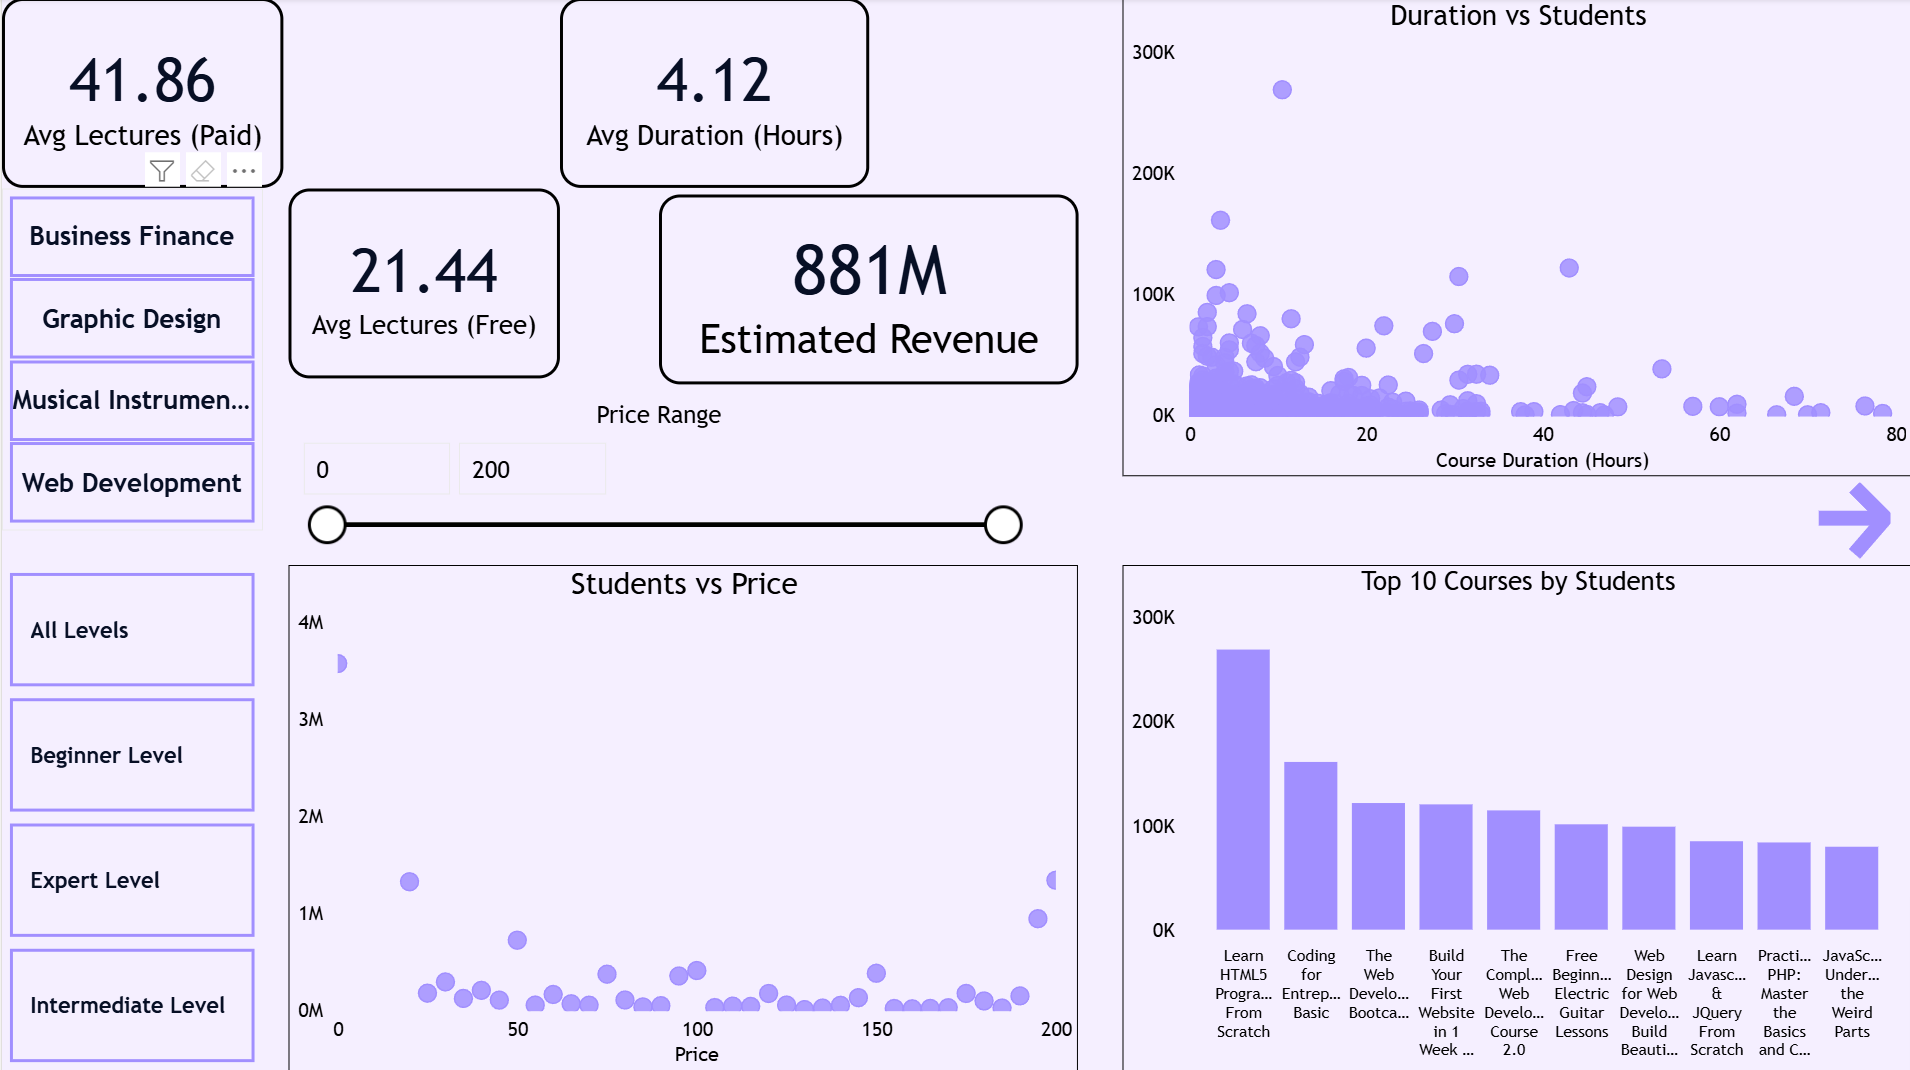

The page's visual inventory and layout, read from the dashboard file:
{"tool":"powerbi","page":{"name":"COURSES","canvas":[1280,720],"ordinal":2},"visuals":[{"type":"card","fields":{"Values":["Udemy_Cleaned.Avg Lectures Paid"]},"box":[0,0,188.9,127.5],"z":0},{"type":"card","fields":{"Values":["Udemy_Cleaned.Avg Duration"]},"box":[374.3,0,207.4,127.5],"z":1000},{"type":"card","fields":{"Values":["Udemy_Cleaned.Avg Lectures Free"]},"box":[192.3,127.5,181.9,127.5],"z":2000},{"type":"scatterChart","title":"Students vs Price","fields":{"X":["Udemy_Cleaned.Price_USD"],"Y":["Sum(Udemy_Cleaned.Students)"]},"box":[192.3,380.1,529.5,339.5],"z":3000},{"type":"columnChart","title":"Top 10 Courses by Students","fields":{"Category":["Udemy_Cleaned.Course_Title"],"Y":["Sum(Udemy_Cleaned.Students)"]},"box":[750.9,380.1,529.5,339.5],"z":4000},{"type":"scatterChart","title":"Duration vs Students","fields":{"X":["Sum(Udemy_Cleaned.Content_Duration_hours)"],"Y":["Sum(Udemy_Cleaned.Students)"],"Category":["Udemy_Cleaned.Course_Title"]},"box":[750.9,0,529.5,321],"z":5000},{"type":"listSlicer","fields":{"Values":["Udemy_Cleaned.Subject"]},"box":[0,127.5,175,229.4],"z":6000},{"type":"slicer","title":"Price Range","fields":{"Values":["Udemy_Cleaned.Price_USD"]},"box":[188.9,270,502.9,100.8],"z":7000},{"type":"advancedSlicerVisual","fields":{"Values":["Udemy_Cleaned.Level"]},"box":[0,380.1,175,339.5],"z":8000},{"type":"card","fields":{"Values":["Udemy_Cleaned.Estimated Revenue"]},"box":[440.3,132.1,281.6,127.5],"z":9000},{"type":"actionButton","box":[1210.9,321,69.5,59.1],"z":10000}]}

Visuals, with their boxes in screenshot pixels (x1, y1, x2, y2), scaled from the page's 1280x720 canvas onto the 1910x1070 screenshot:
card - Udemy_Cleaned.Avg Lectures Paid: bbox=(0, 0, 282, 189)
card - Udemy_Cleaned.Avg Duration: bbox=(559, 0, 868, 189)
card - Udemy_Cleaned.Avg Lectures Free: bbox=(287, 189, 558, 379)
"Students vs Price" scatterChart: bbox=(287, 565, 1077, 1069)
"Top 10 Courses by Students" columnChart: bbox=(1120, 565, 1909, 1069)
"Duration vs Students" scatterChart: bbox=(1120, 0, 1909, 477)
listSlicer - Udemy_Cleaned.Subject: bbox=(0, 189, 261, 530)
"Price Range" slicer: bbox=(282, 401, 1032, 551)
advancedSlicerVisual - Udemy_Cleaned.Level: bbox=(0, 565, 261, 1069)
card - Udemy_Cleaned.Estimated Revenue: bbox=(657, 196, 1077, 386)
actionButton: bbox=(1807, 477, 1909, 565)
